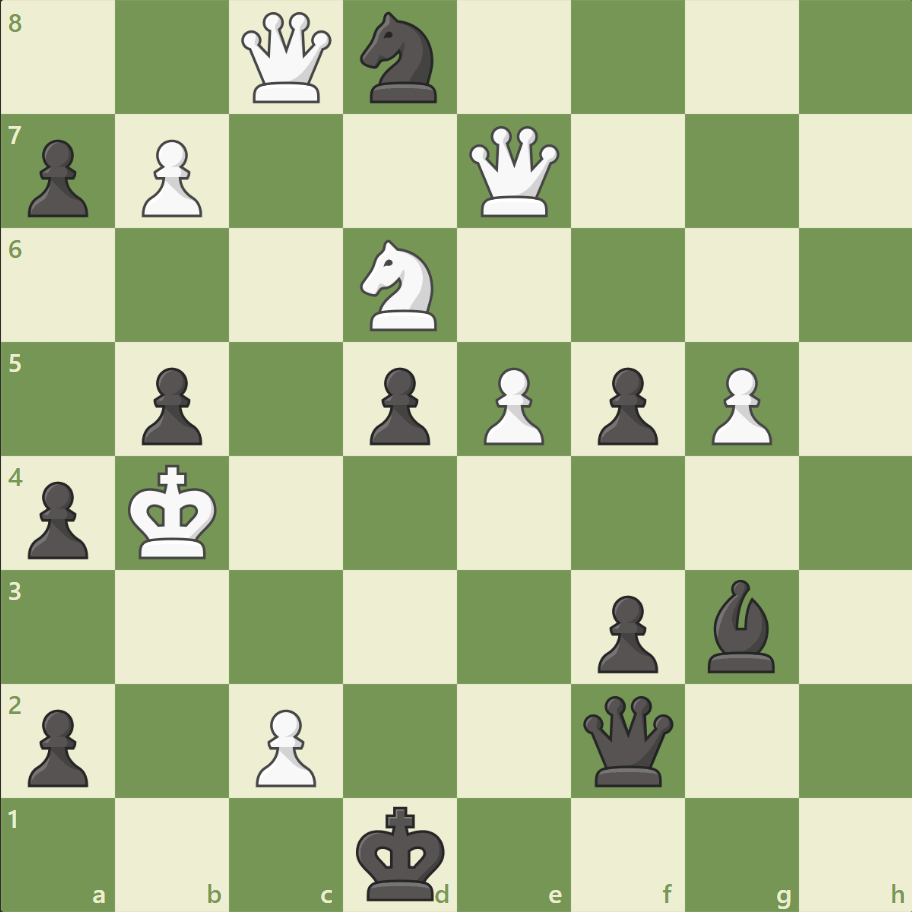K: (124, 458, 224, 566)
N: (351, 234, 449, 337)
P: (133, 132, 208, 223), (474, 359, 549, 450), (701, 359, 776, 450), (247, 700, 322, 791)
Q: (464, 122, 563, 222), (237, 9, 336, 108)
b: (698, 574, 782, 676)
k: (351, 798, 451, 906)
n: (351, 7, 449, 110)
p: (20, 132, 95, 223), (133, 359, 208, 450), (20, 473, 95, 564), (20, 700, 95, 791), (361, 359, 435, 450), (588, 359, 662, 450), (588, 586, 662, 677)
q: (578, 690, 677, 789)
